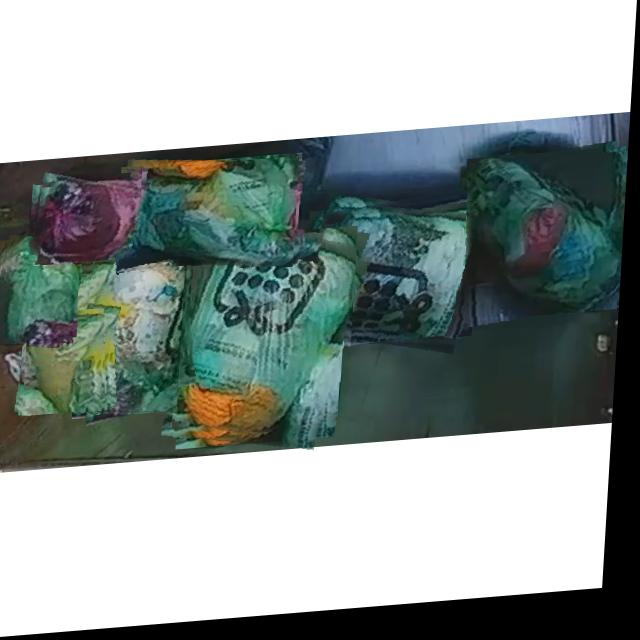general_trashbag: (182, 238, 358, 438), (309, 210, 477, 349), (470, 170, 626, 317), (126, 163, 297, 272), (86, 255, 187, 414), (32, 314, 109, 414), (10, 236, 83, 340)
other_trashbag: (35, 180, 142, 263)
